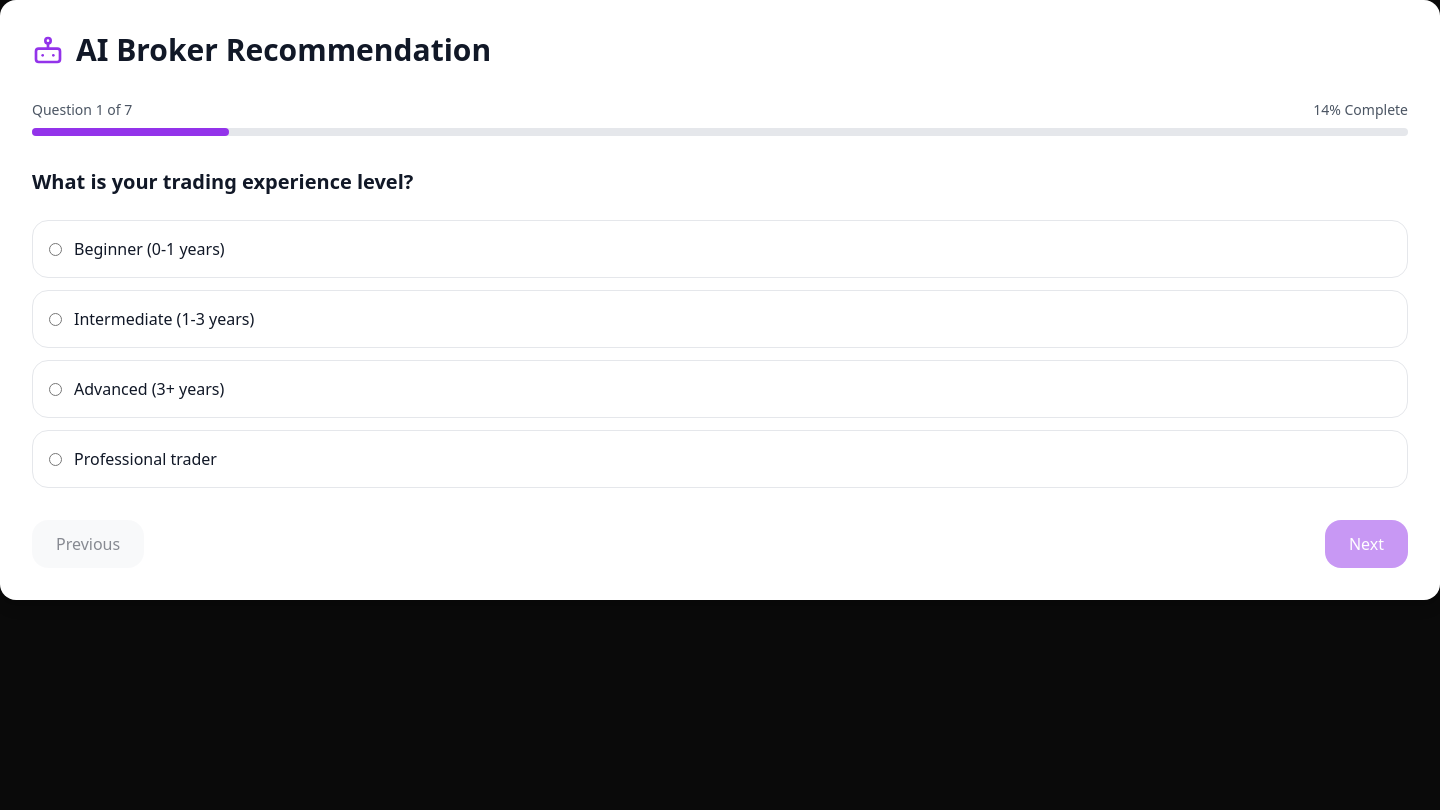
AIAssistantComponent › Question Navigation › can navigate to next question
Select an answer
Click the radio button labelled "Beginner (0-1 years)" at (56, 249), box [49, 242, 62, 256]
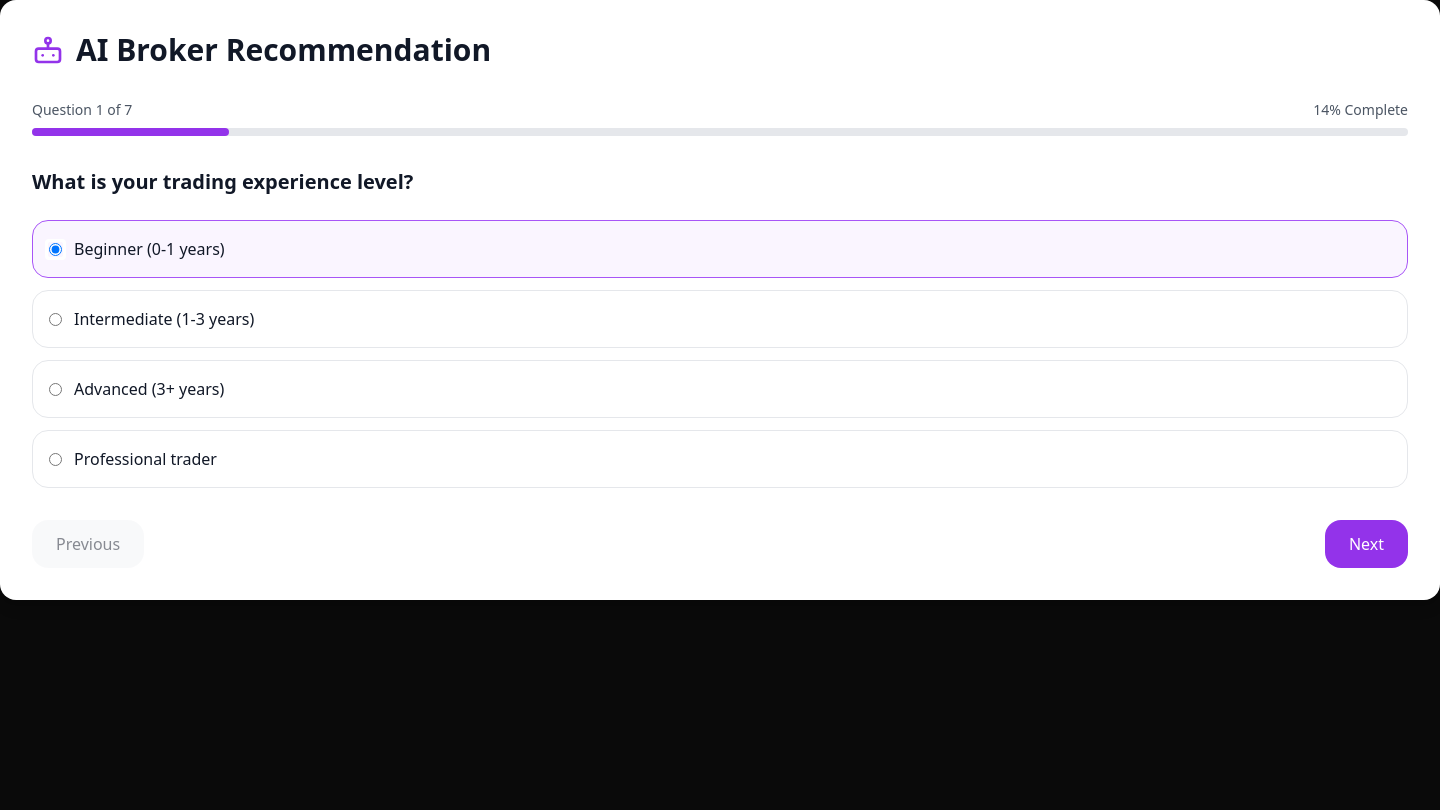
Click Next
Click the button "Next" at (1366, 544), box [1325, 520, 1408, 568]
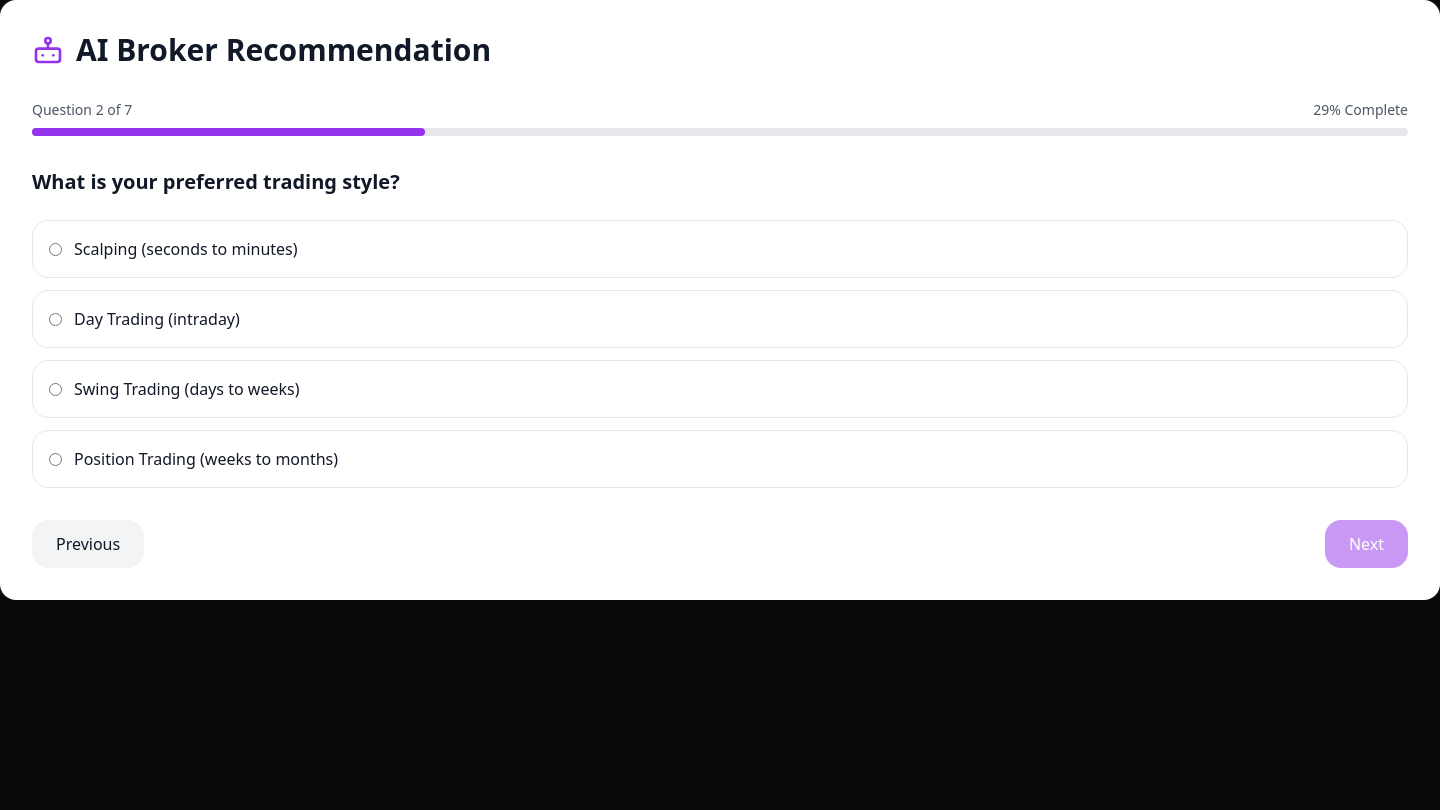
Now the text "Question 2 of 7" is shown, box [32, 100, 132, 120]
Now the heading "What is your preferred trading style?" is shown, box [32, 168, 400, 195]
